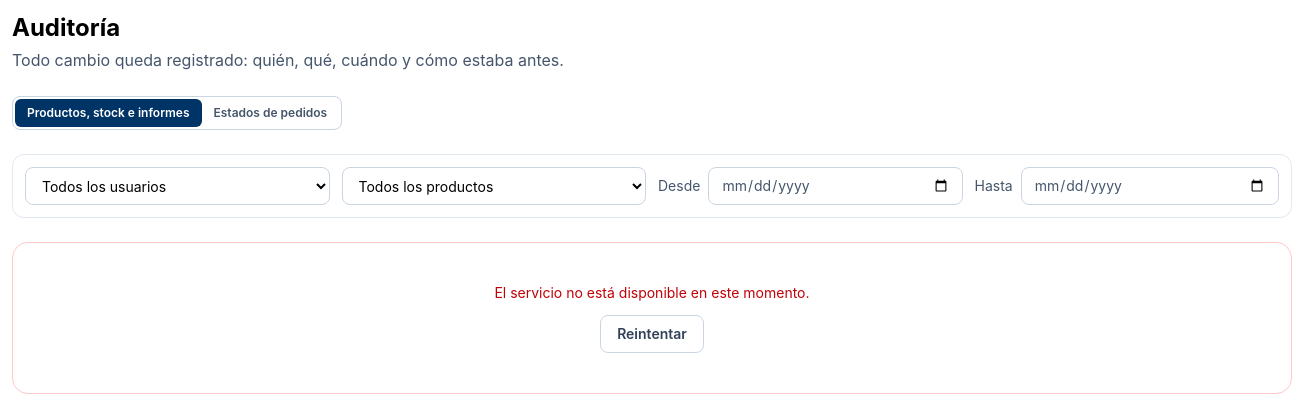
Test: Auditoria: cambios en productos › si falla la carga muestra el error y permite reintentar
This screenshot has width=1292, height=411.
Expected: the text "El servicio no está disponible en este momento." is shown, [494,284,810,301]
Click the button "Reintentar" at coordinates (652, 334), box [600,315,704,353]
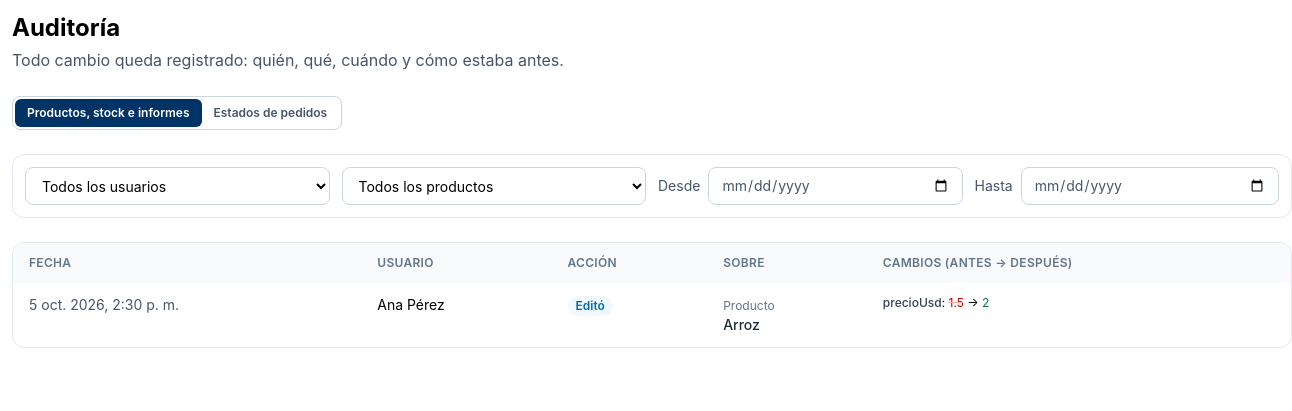
Expected: the table is shown, [13,243,1291,347]
